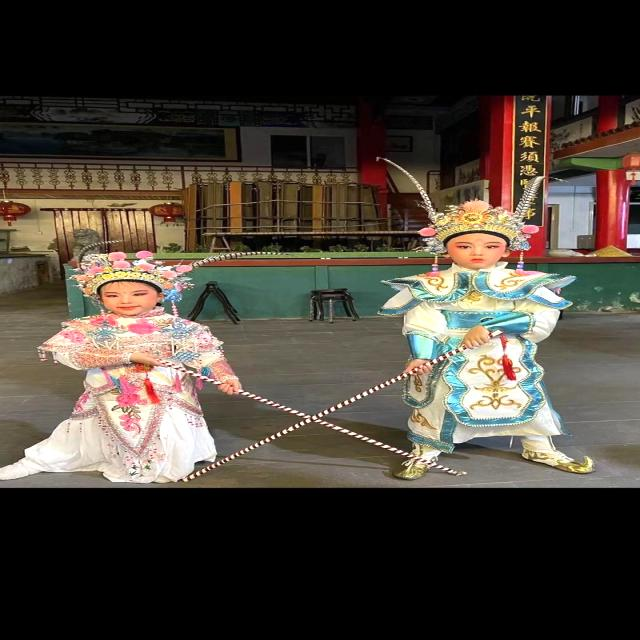Reeves-s Pheasant: (378, 157, 437, 224), (511, 176, 544, 229), (191, 252, 264, 269), (520, 251, 525, 260), (518, 260, 523, 269)
